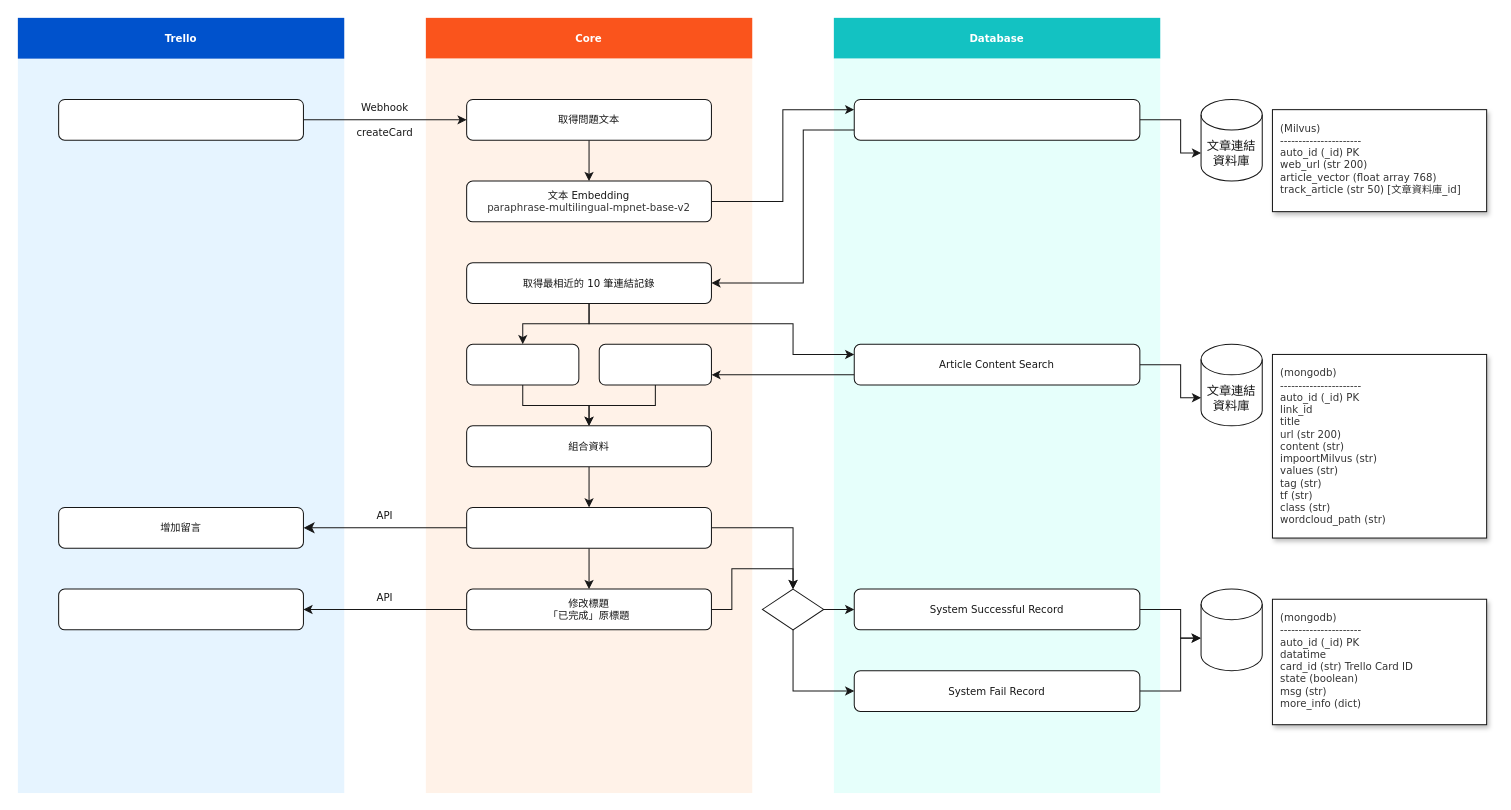
This 1511x810 diagram has some shape labels left out. Here are the shapes that lost their labels. From the top down, the centre of each, then its label:
At pixel 180 119: "用戶新增問題卡片".
At pixel 996 119: "Vector Search ( Top 10 )".
At pixel 522 364: "利用 QA Model 生成回答".
At pixel 654 364: "文字雲圖片找尋".
At pixel 588 527: "新增留言到 卡片 （10 筆相關資料）".
At pixel 180 609: "渲染新標題".
At pixel 792 609: "成功？".
At pixel 1231 629: "系統紀錄資料庫".
